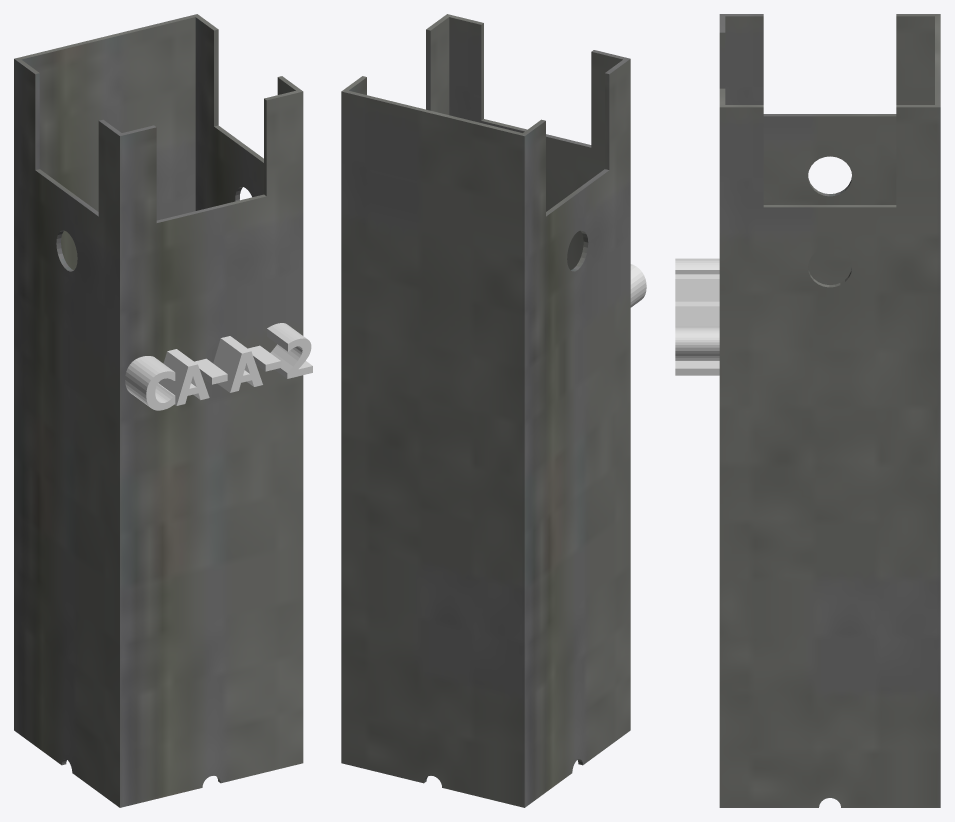
The model's file is CA-2A elvara 2.glb.
3 views of the same model, side by side, from view 1: azimuth 30°, elevation 25°; view 2: azimuth 150°, elevation 25°; view 3: azimuth 270°, elevation 25° (orthographic). The views are drawn at different scales.
Parts seen in each view (by area): view 1: G-Object, C-CA-A-2; view 2: G-Object, C-CA-A-2; view 3: G-Object, C-CA-A-2.
Boxes of the visible parts, x1,y1,x2,y2 form: G-Object: [14, 14, 303, 807]; C-CA-A-2: [125, 323, 312, 410]; G-Object: [341, 14, 630, 807]; C-CA-A-2: [630, 264, 646, 307]; G-Object: [719, 14, 940, 807]; C-CA-A-2: [675, 258, 719, 375].
Bounding box in the file's own units: 0.1 × 0.35 × 0.12.
Materials: 2 (1 with a texture image).
